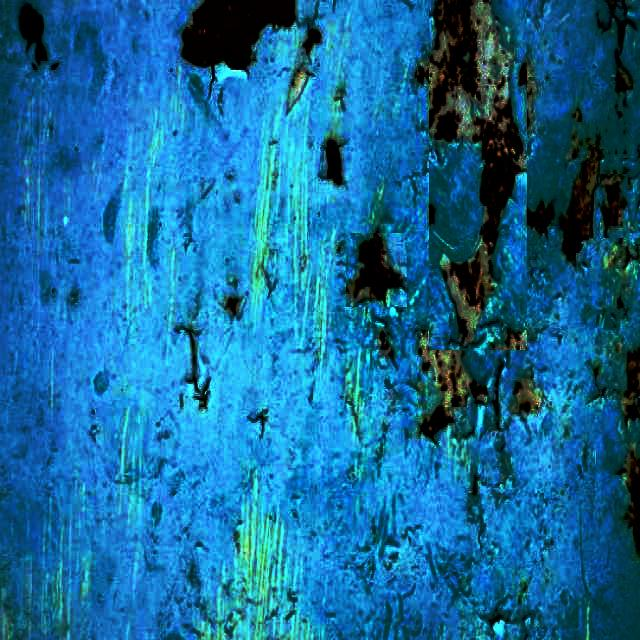Corrosion: (420, 0, 526, 345), (417, 330, 488, 440), (418, 330, 487, 440), (182, 0, 294, 67), (440, 240, 494, 345), (562, 144, 602, 264), (347, 232, 403, 301), (598, 0, 640, 90), (175, 326, 209, 410), (601, 172, 628, 236), (626, 450, 640, 557), (512, 376, 543, 415), (623, 350, 640, 420), (288, 66, 311, 111), (527, 200, 555, 236), (17, 6, 42, 45), (376, 320, 394, 363), (496, 328, 528, 350), (325, 138, 340, 184), (247, 410, 267, 438), (302, 26, 321, 53), (617, 64, 634, 90), (224, 298, 239, 316)
